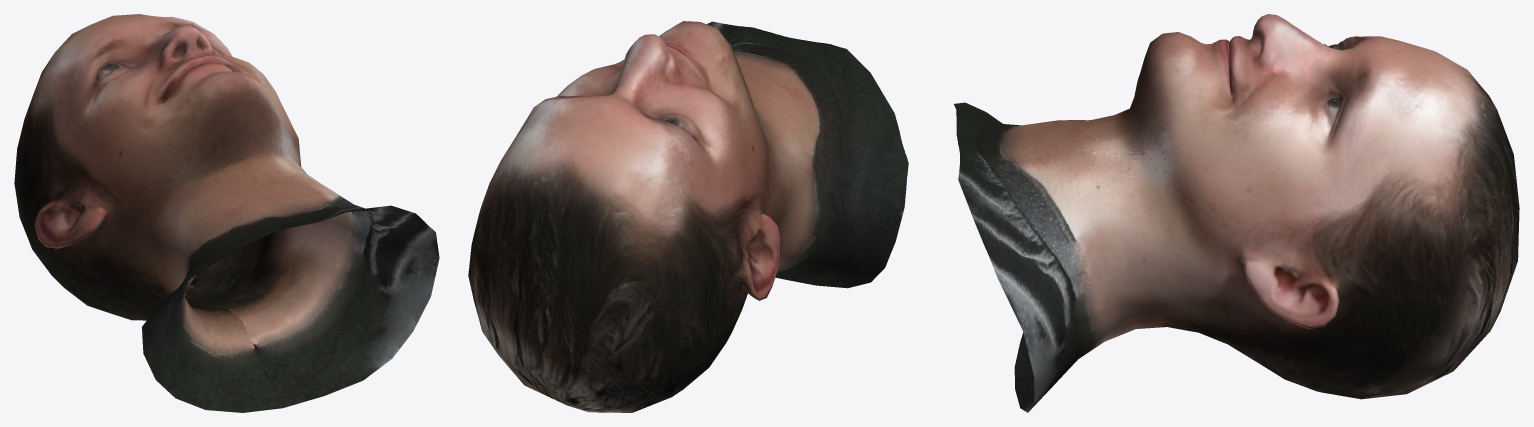
The model's file is Mára.fbx.
3 renders of one model, left to right at view 1: azimuth 30°, elevation 25°; view 2: azimuth 150°, elevation 25°; view 3: azimuth 270°, elevation 25°, orthographic. The views are drawn at different scales.
Parts seen in each view (by area): view 1: Mára; view 2: Mára; view 3: Mára.
Part boxes in pixels (x1,y1,x2,y2): Mára: [14, 14, 439, 412]; Mára: [468, 21, 908, 412]; Mára: [954, 14, 1519, 412].
Bounding box in the file's own units: 191 × 196 × 279.
